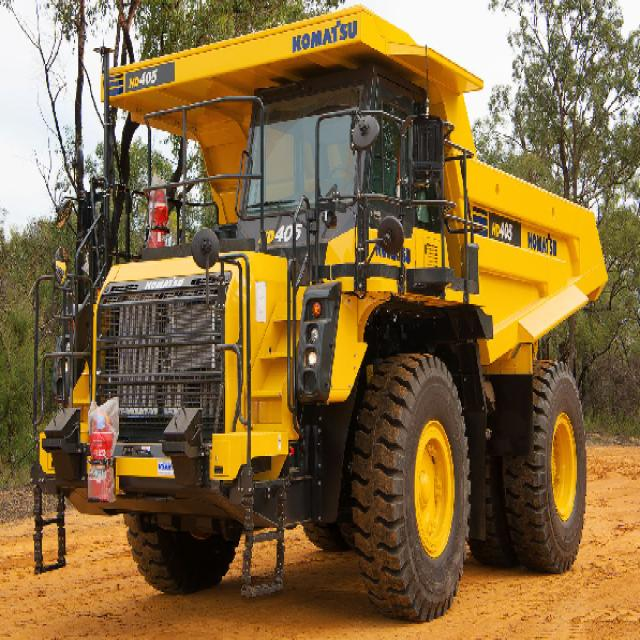dump_truck: (40, 11, 610, 616)
